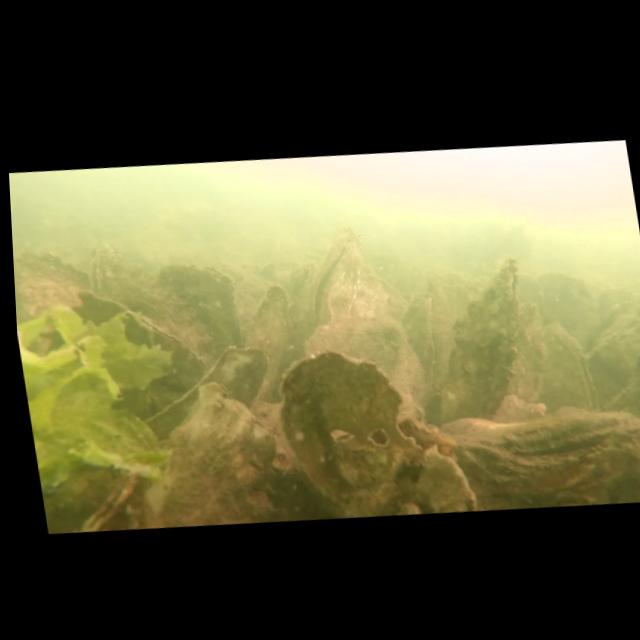Oyster-Closed: (125, 371, 289, 536), (434, 391, 640, 513), (417, 246, 541, 428), (71, 276, 212, 430), (165, 255, 246, 355), (540, 319, 599, 414), (75, 469, 147, 535)
Oyster-Indeterminate: (268, 332, 477, 529), (131, 335, 281, 449), (300, 307, 427, 432), (13, 244, 101, 353), (235, 279, 304, 391), (501, 298, 557, 411)
Oyster-Open: (296, 223, 375, 335), (82, 237, 128, 299)
